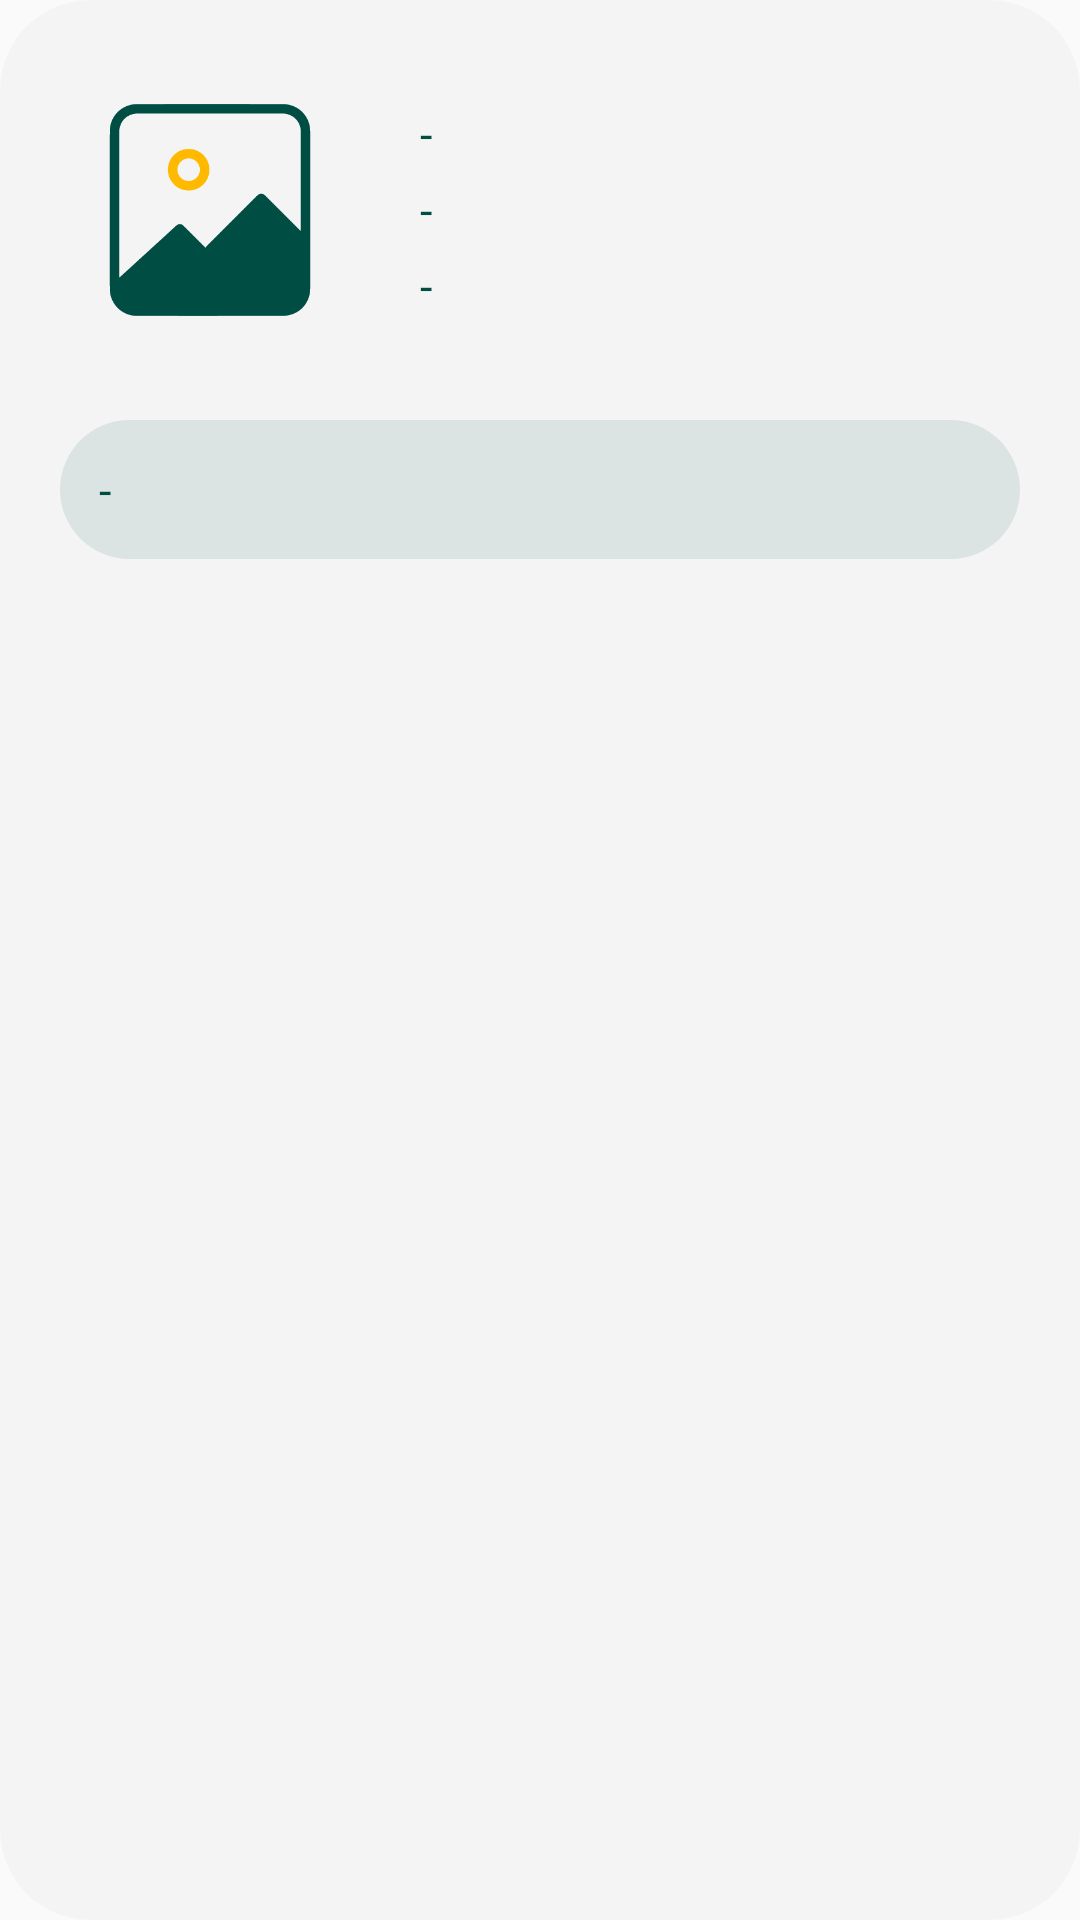

Where to tap for icons on this 1080 x 1920 app screen, as [x,y]:
foto: [210,210]
